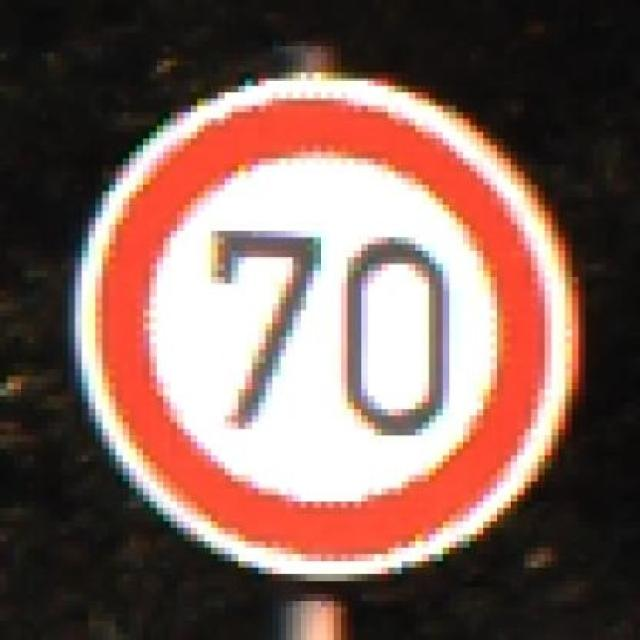forb_speed_over_70: (86, 87, 560, 568)
